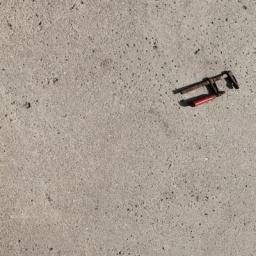FOD: (175, 65, 246, 110)
